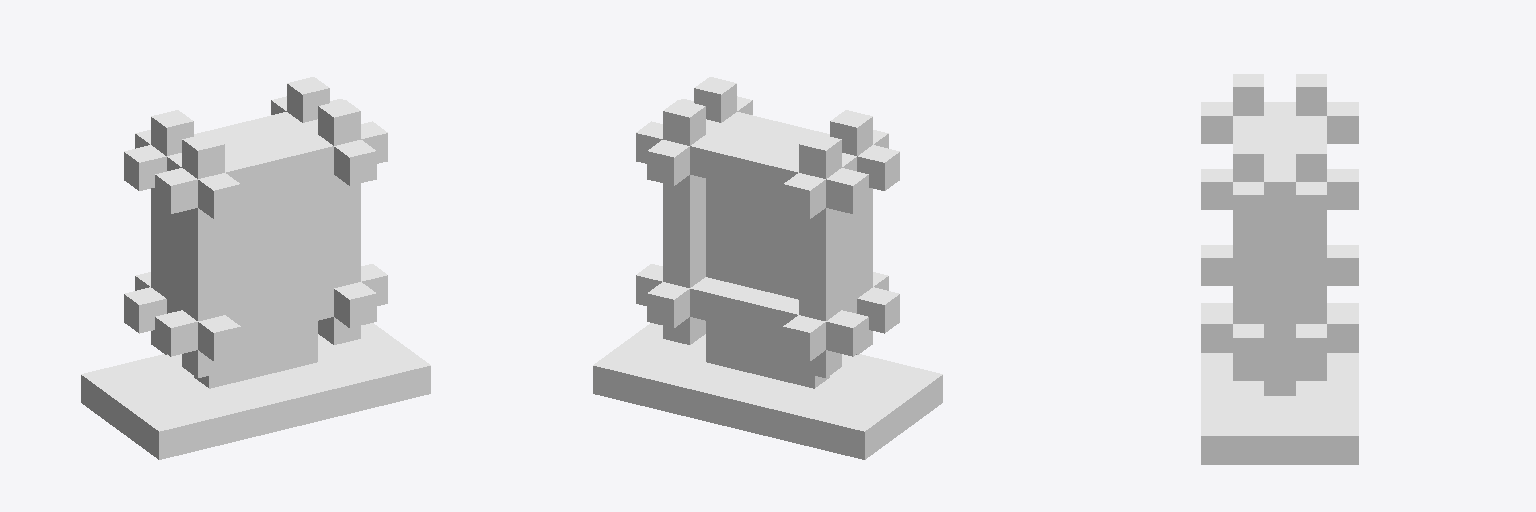
File: Game_new_monitor1.obj
3 renders of one model, left to right at view 1: azimuth 30°, elevation 25°; view 2: azimuth 150°, elevation 25°; view 3: azimuth 270°, elevation 25°, orthographic.
Parts seen in each view (by area): view 1: new_monitor1; view 2: new_monitor1; view 3: new_monitor1.
Boxes of the visible parts, x1=… form: new_monitor1: x1=81, y1=77, x2=430, y2=459; new_monitor1: x1=593, y1=77, x2=942, y2=459; new_monitor1: x1=1201, y1=74, x2=1358, y2=464.
Size of the model in its own units: 1 by 1 by 0.5.